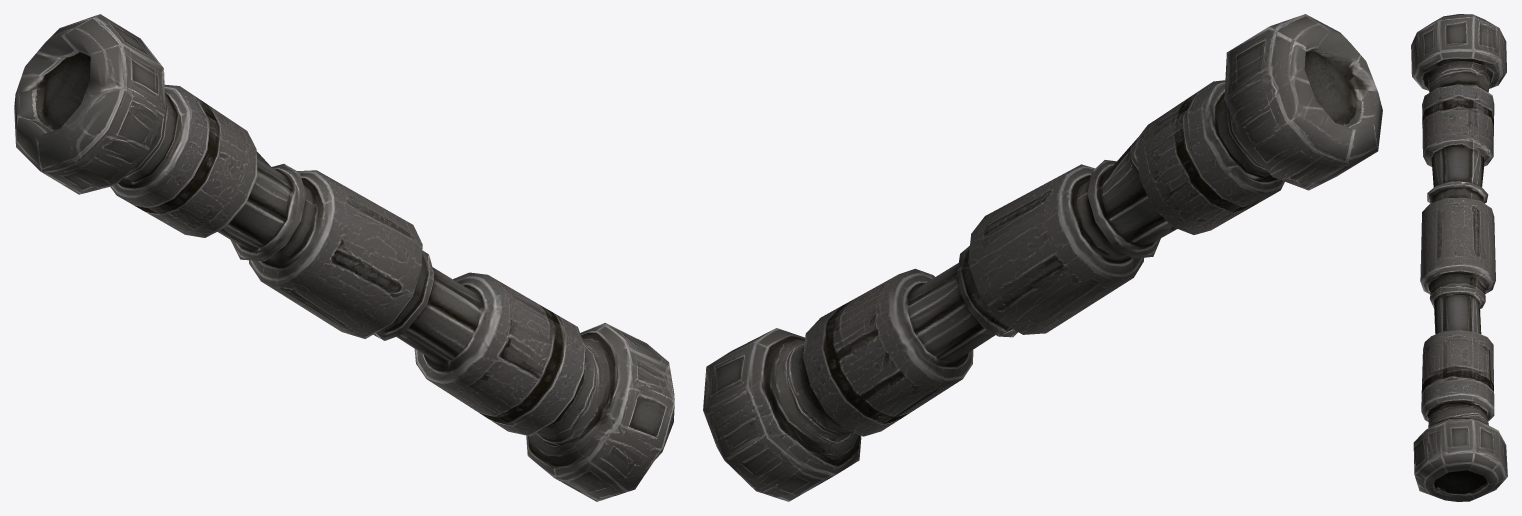
File: cold-iron-v2-rod-b-telescoping.glb
3 renders of one model, left to right at view 1: azimuth 30°, elevation 25°; view 2: azimuth 150°, elevation 25°; view 3: azimuth 270°, elevation 25°, orthographic. The views are drawn at different scales.
Visible parts, largest first — view 1: tripo_node_6a2fea32-5cae-4f5a-a9b4-d72b8027ec4d; view 2: tripo_node_6a2fea32-5cae-4f5a-a9b4-d72b8027ec4d; view 3: tripo_node_6a2fea32-5cae-4f5a-a9b4-d72b8027ec4d.
Part boxes in pixels (bbox=[...]): tripo_node_6a2fea32-5cae-4f5a-a9b4-d72b8027ec4d: bbox=[14, 14, 674, 501]; tripo_node_6a2fea32-5cae-4f5a-a9b4-d72b8027ec4d: bbox=[703, 14, 1382, 501]; tripo_node_6a2fea32-5cae-4f5a-a9b4-d72b8027ec4d: bbox=[1411, 14, 1507, 501].
Bounding box in the file's own units: 0.998 × 0.877 × 0.2227.
Materials: 1 (1 with a texture image).
